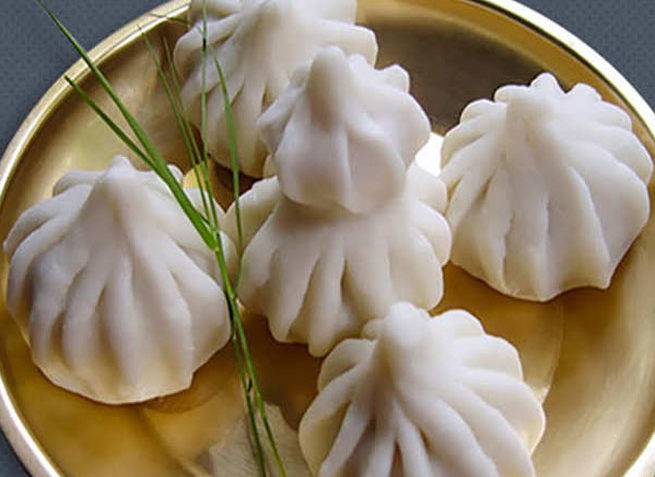modak: (18, 156, 237, 413), (445, 73, 641, 310), (323, 279, 533, 477), (224, 36, 420, 192)
